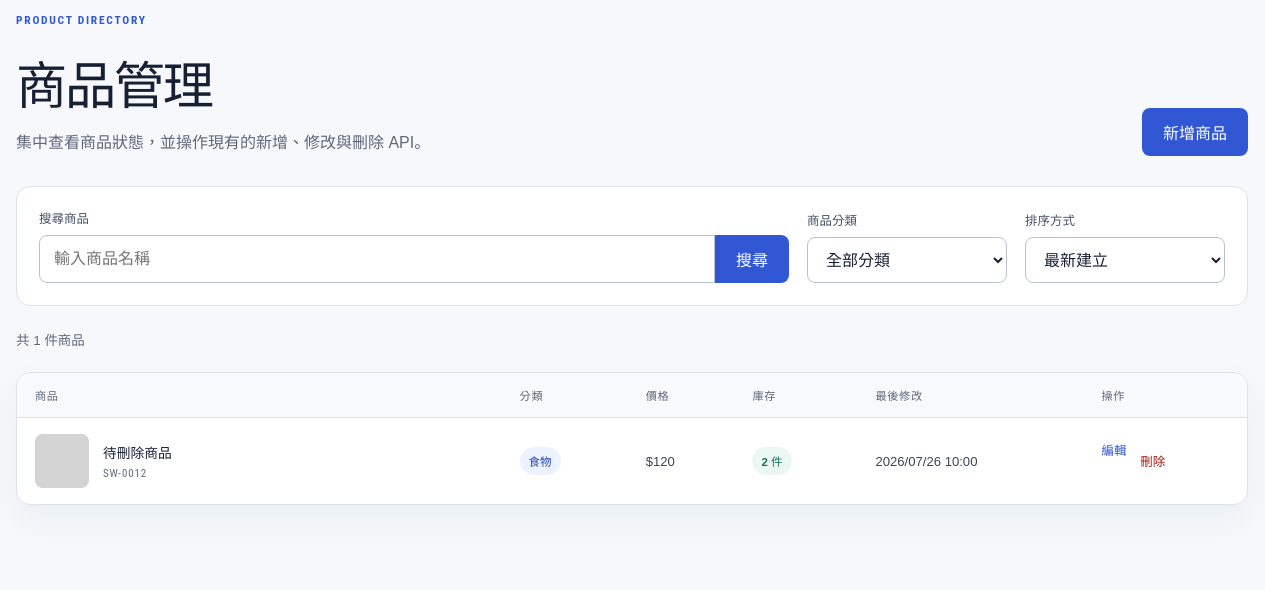
Test case: AdminProductsPage › 確認商品名稱後刪除並重新載入列表
The image size is (1265, 590).
Expected: the text "待刪除商品" is shown, [103, 442, 172, 462]
Click the button "刪除" at (1153, 461), box [1140, 441, 1165, 481]
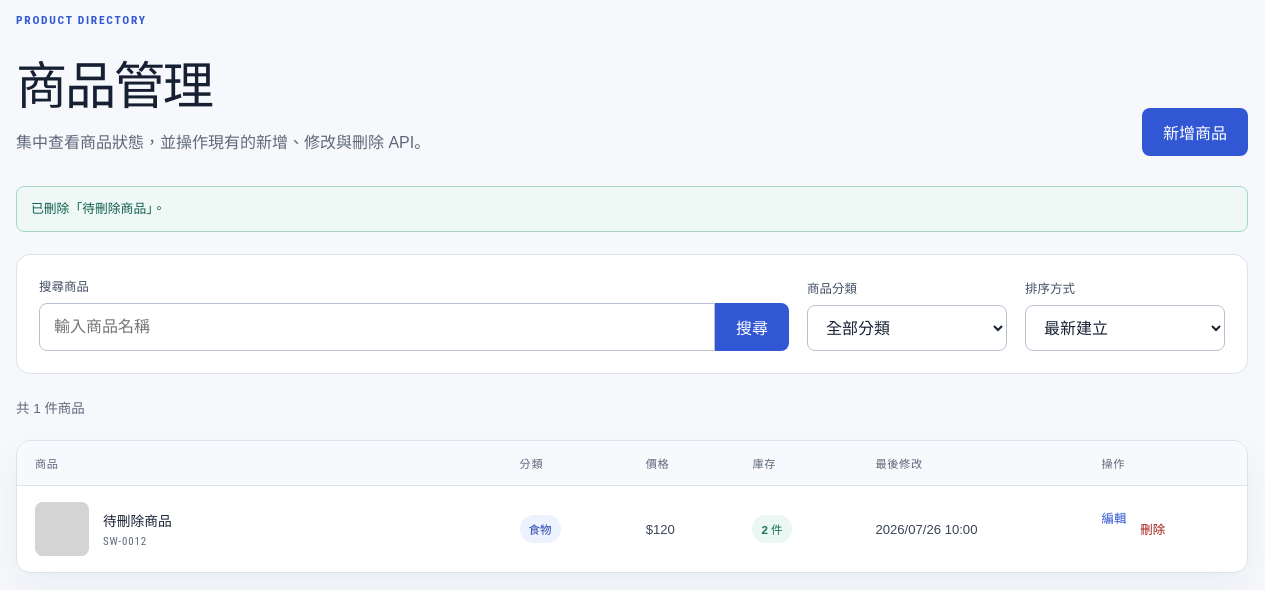
Expected: the text "已刪除「待刪除商品」。" is shown, [16, 186, 1248, 232]
